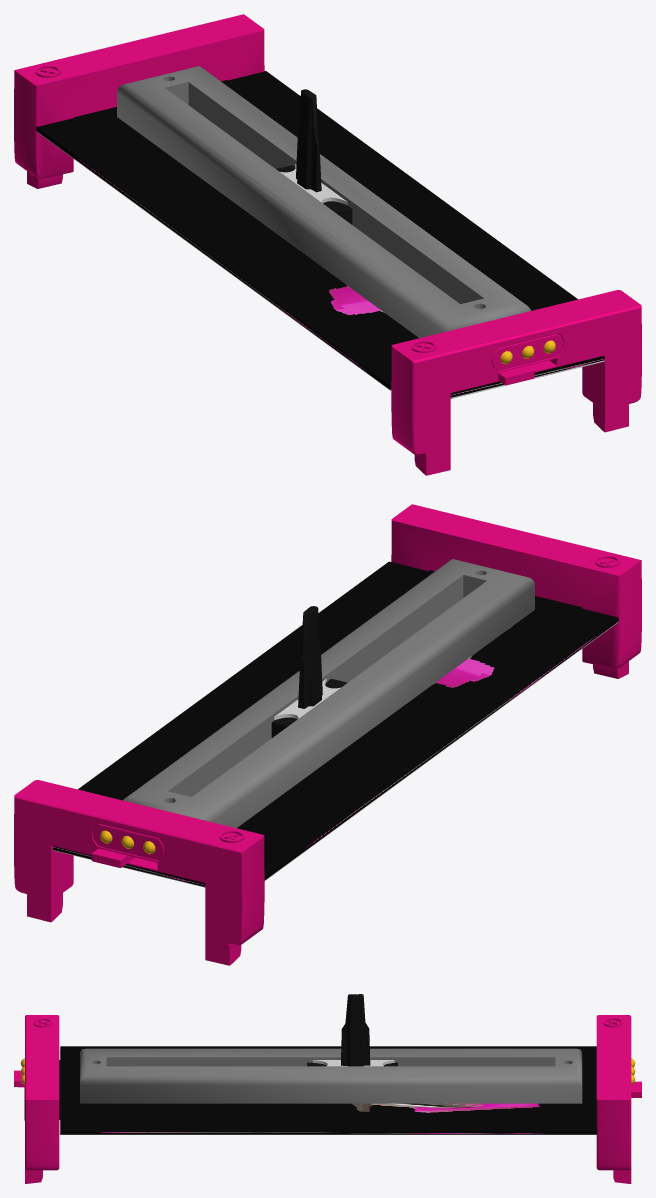
Rendered from littlebit i5 slide dimmer.fbx.
3 renders of one model, top to bottom at view 1: azimuth 30°, elevation 25°; view 2: azimuth 150°, elevation 25°; view 3: azimuth 270°, elevation 25°, orthographic. The views are drawn at different scales.
Visible parts, largest first — view 1: Box001, Box002, Line001, Line002, Line004, SShape001; view 2: Box001, Box002, Line002, Line001, Line004, SShape001; view 3: Box002, Box001, Line002, Line001, Line004, SShape001, Line003.
Part boxes in pixels (x1,y1,x2,y2): Box001: (36, 71, 604, 397); Box002: (117, 66, 531, 337); Line001: (391, 290, 641, 475); Line002: (14, 14, 264, 188); Line004: (296, 89, 321, 192); SShape001: (36, 131, 604, 398); Box001: (53, 561, 618, 886); Box002: (123, 559, 534, 827); Line002: (14, 780, 264, 965); Line001: (391, 504, 641, 678); Line004: (298, 606, 322, 708); SShape001: (53, 621, 618, 887); Box002: (80, 1048, 582, 1103); Box001: (24, 1046, 597, 1134); Line002: (596, 1015, 641, 1183); Line001: (14, 1015, 59, 1183); Line004: (341, 994, 370, 1066); SShape001: (24, 1049, 596, 1134); Line003: (312, 1060, 394, 1066).
Size of the model in its own units: 26.28 by 81.72 by 21.62.
